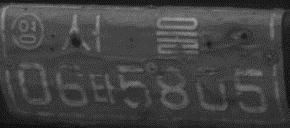0: (14, 59, 51, 107), (193, 65, 229, 113)
5: (233, 66, 268, 115), (116, 63, 152, 109)
6: (54, 61, 88, 108)
8: (154, 64, 189, 111)
서울_D: (59, 12, 200, 55)
영: (8, 11, 46, 52)
타: (88, 71, 115, 105)
